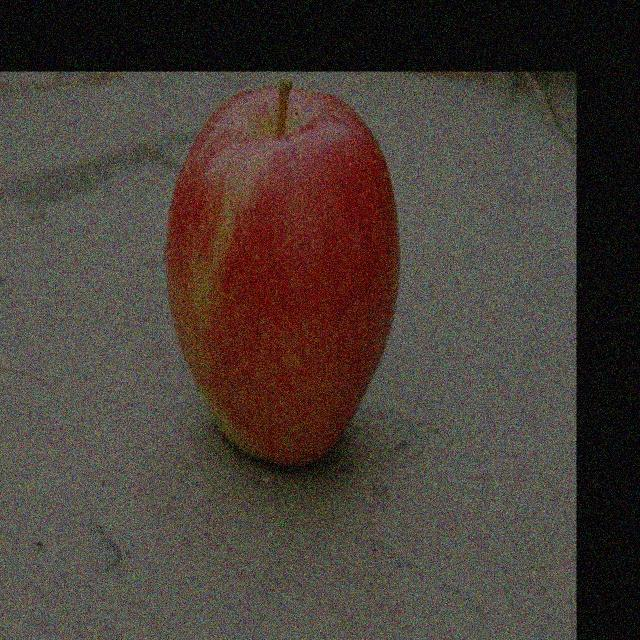red apple: (165, 81, 400, 464)
